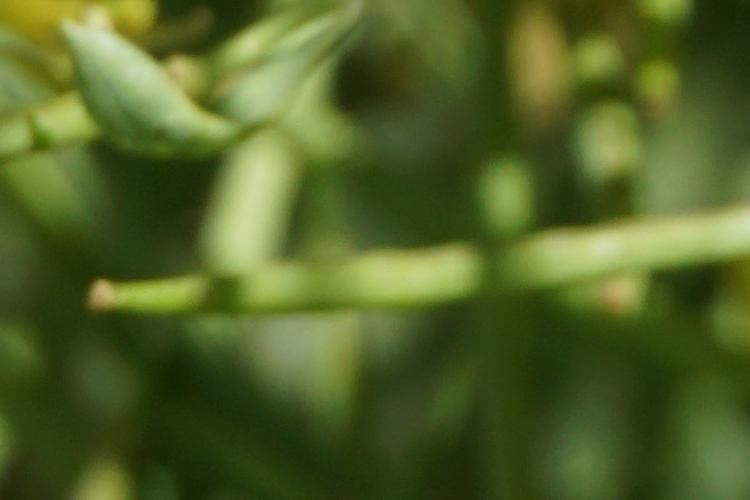pod: (46, 215, 738, 323)
